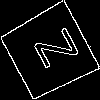Z: (24, 27, 79, 76)
